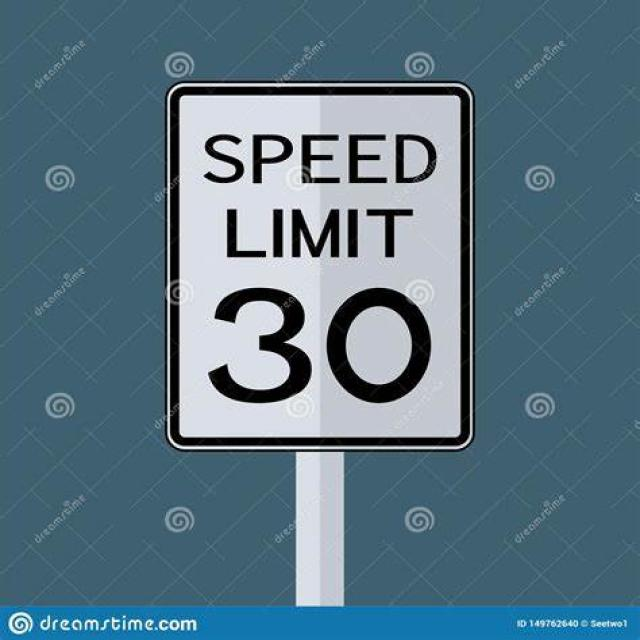speedLimit35: (165, 82, 472, 448)
